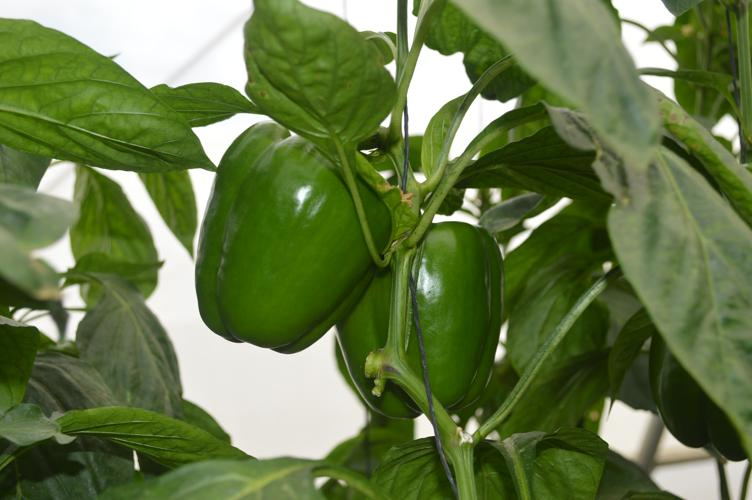BellPepper: (196, 124, 388, 359), (329, 224, 500, 413), (645, 333, 745, 462)
